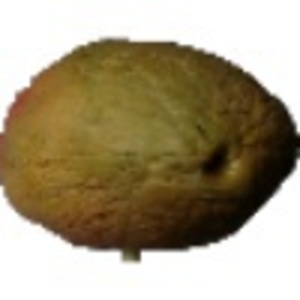mamão: (5, 33, 295, 255)
